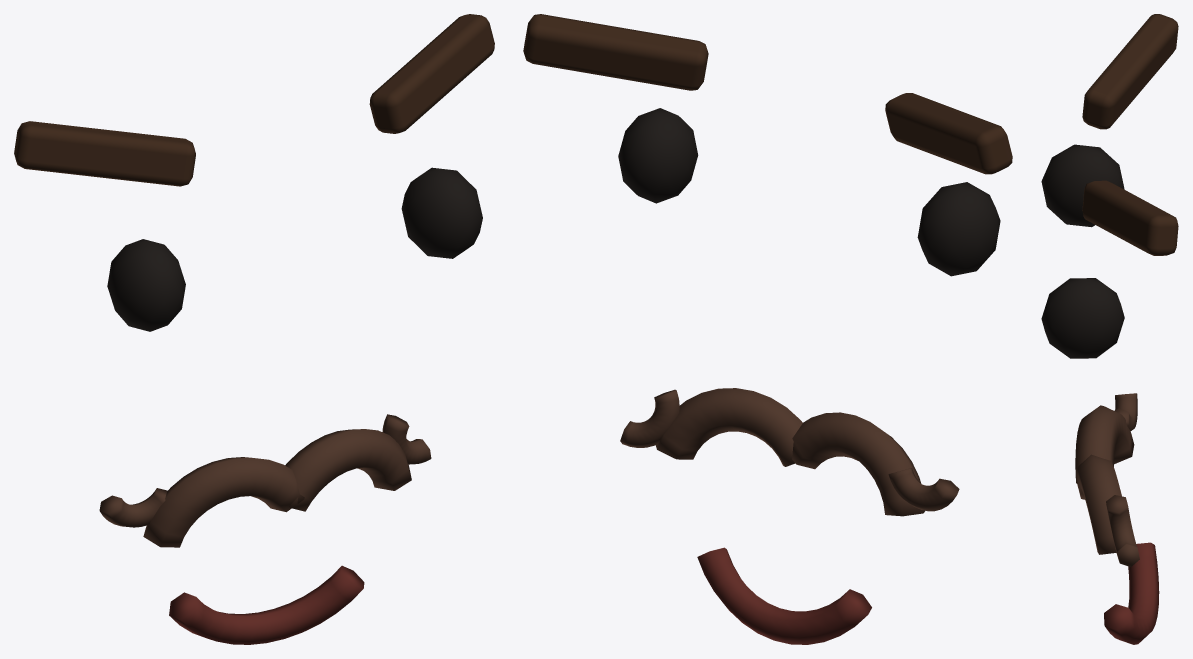
File: 17-old-pal.glb
3 renders of one model, left to right at view 1: azimuth 30°, elevation 25°; view 2: azimuth 150°, elevation 25°; view 3: azimuth 270°, elevation 25°, orthographic. The views are drawn at different scales.
Parts seen in each view (by area): view 1: Face17_Brow-1, Face17_Brow1, Face17_Mustache-1, Face17_Mouth, Face17_Mustache1, Face17_Eye1, Face17_Eye-1, Face17_Tip-1, Face17_Tip1; view 2: Face17_Brow1, Face17_Mustache1, Face17_Mouth, Face17_Brow-1, Face17_Mustache-1, Face17_Eye-1, Face17_Eye1, Face17_Tip1, Face17_Tip-1; view 3: Face17_Eye1, Face17_Brow-1, Face17_Brow1, Face17_Eye-1, Face17_Mouth, Face17_Mustache1, Face17_Mustache-1, Face17_Tip1, Face17_Tip-1.
Boxes of the visible parts, x1,y1,x2,y2 form: Face17_Brow-1: [14, 121, 195, 186]; Face17_Brow1: [369, 14, 494, 133]; Face17_Mustache-1: [143, 457, 304, 547]; Face17_Mouth: [169, 565, 364, 644]; Face17_Mustache1: [285, 429, 411, 511]; Face17_Eye1: [401, 167, 482, 258]; Face17_Eye-1: [107, 239, 185, 331]; Face17_Tip-1: [99, 488, 167, 527]; Face17_Tip1: [382, 414, 431, 464]; Face17_Brow1: [523, 14, 708, 90]; Face17_Mustache1: [655, 388, 802, 466]; Face17_Mouth: [697, 547, 871, 644]; Face17_Brow-1: [885, 93, 1012, 174]; Face17_Mustache-1: [792, 412, 924, 516]; Face17_Eye-1: [917, 182, 1000, 276]; Face17_Eye1: [618, 108, 698, 203]; Face17_Tip1: [620, 389, 679, 447]; Face17_Tip-1: [888, 468, 959, 511]; Face17_Eye1: [1041, 278, 1124, 358]; Face17_Brow-1: [1082, 14, 1178, 129]; Face17_Brow1: [1082, 180, 1178, 255]; Face17_Eye-1: [1041, 144, 1124, 227]; Face17_Mouth: [1104, 542, 1159, 644]; Face17_Mustache1: [1076, 454, 1121, 554]; Face17_Mustache-1: [1075, 405, 1134, 483]; Face17_Tip1: [1106, 495, 1139, 566]; Face17_Tip-1: [1114, 393, 1137, 430].
Size of the model in its own units: 0.2991 by 0.3393 by 0.0813.
